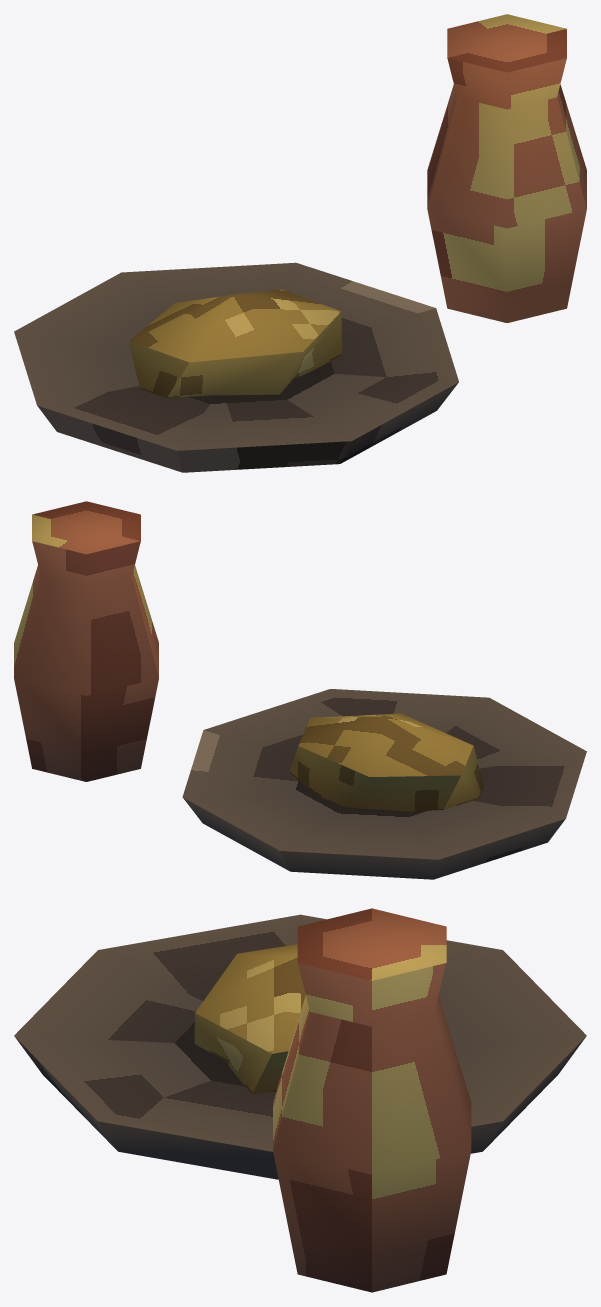
File: mprop.tableware.glb
3 views of the same model, one above another, from view 1: azimuth 30°, elevation 25°; view 2: azimuth 150°, elevation 25°; view 3: azimuth 270°, elevation 25° (orthographic). The views are drawn at different scales.
Parts seen in each view (by area): view 1: kit_ware, kit_food; view 2: kit_ware, kit_food; view 3: kit_ware, kit_food.
Boxes of the visible parts, x1,y1,x2,y2 form: kit_ware: (14, 14, 586, 472); kit_food: (129, 289, 342, 397); kit_ware: (14, 501, 586, 879); kit_food: (289, 713, 483, 811); kit_ware: (14, 908, 586, 1292); kit_food: (194, 944, 305, 1094).
Bounding box in the file's own units: 0.58 × 0.27 × 0.4.
Materials: 3 (3 with a texture image).
